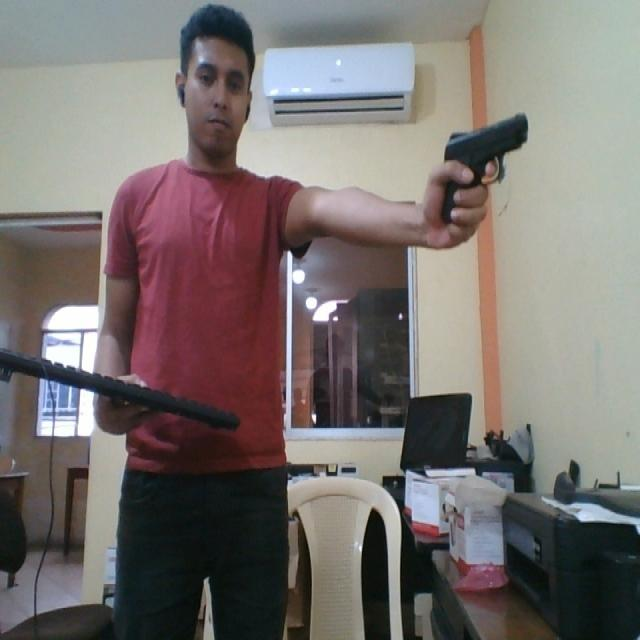weapon: (435, 110, 531, 236)
